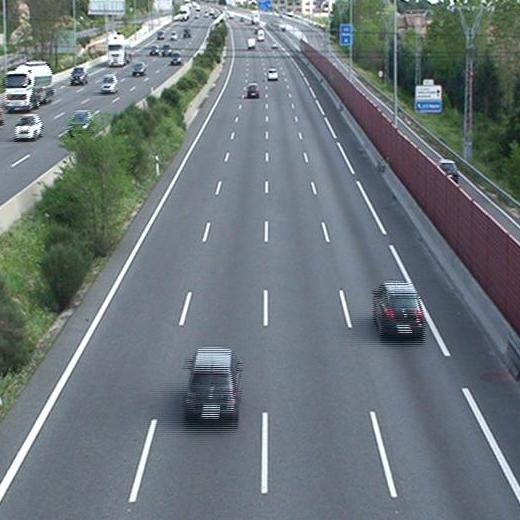car: (184, 347, 240, 422), (369, 281, 426, 339), (244, 82, 260, 99), (266, 68, 278, 82)
van: (247, 37, 257, 50)
